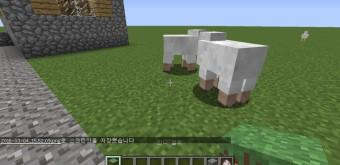sheep: (196, 31, 269, 108), (163, 27, 206, 74)
